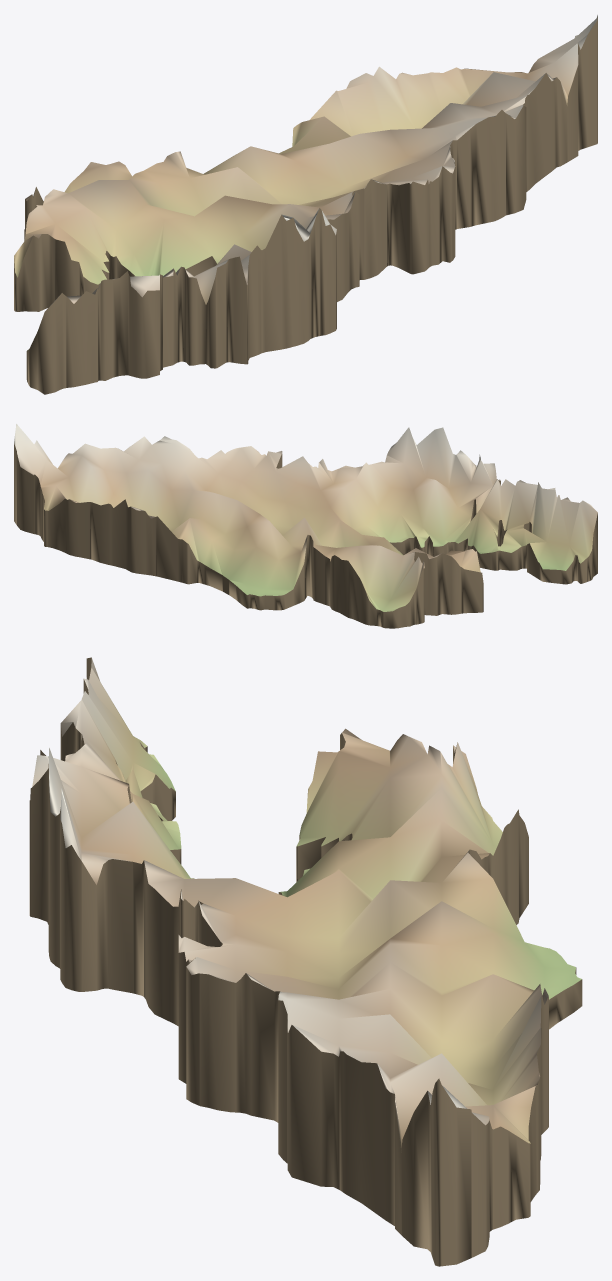
The model's file is KGZ.glb.
The picture shows the model from 3 angles, top to bottom: view 1: azimuth 30°, elevation 25°; view 2: azimuth 150°, elevation 25°; view 3: azimuth 270°, elevation 25°; orthographic projection. The views are drawn at different scales.
Parts seen in each view (by area): view 1: KGZ; view 2: KGZ; view 3: KGZ.
Boxes of the visible parts, box(x1,y1,x2,y2) form: KGZ: box(14, 15, 597, 394); KGZ: box(14, 424, 597, 628); KGZ: box(29, 657, 582, 1266).
Bounding box in the file's own units: 1.77 × 0.338 × 0.854.
